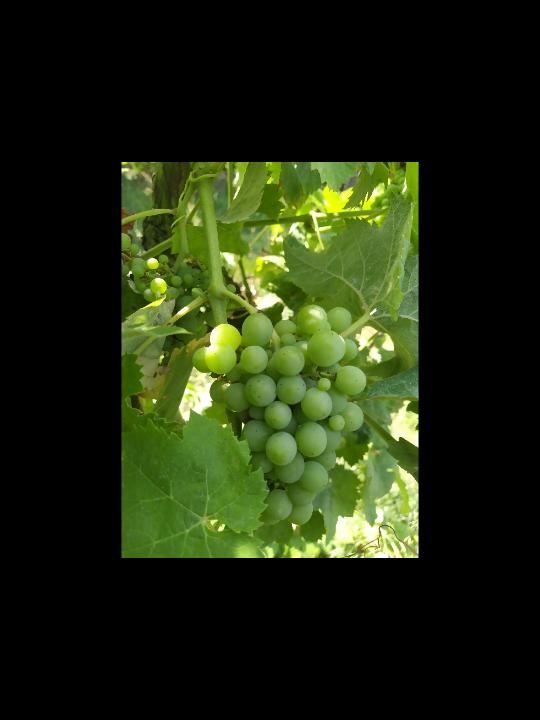grape: (190, 303, 367, 528)
